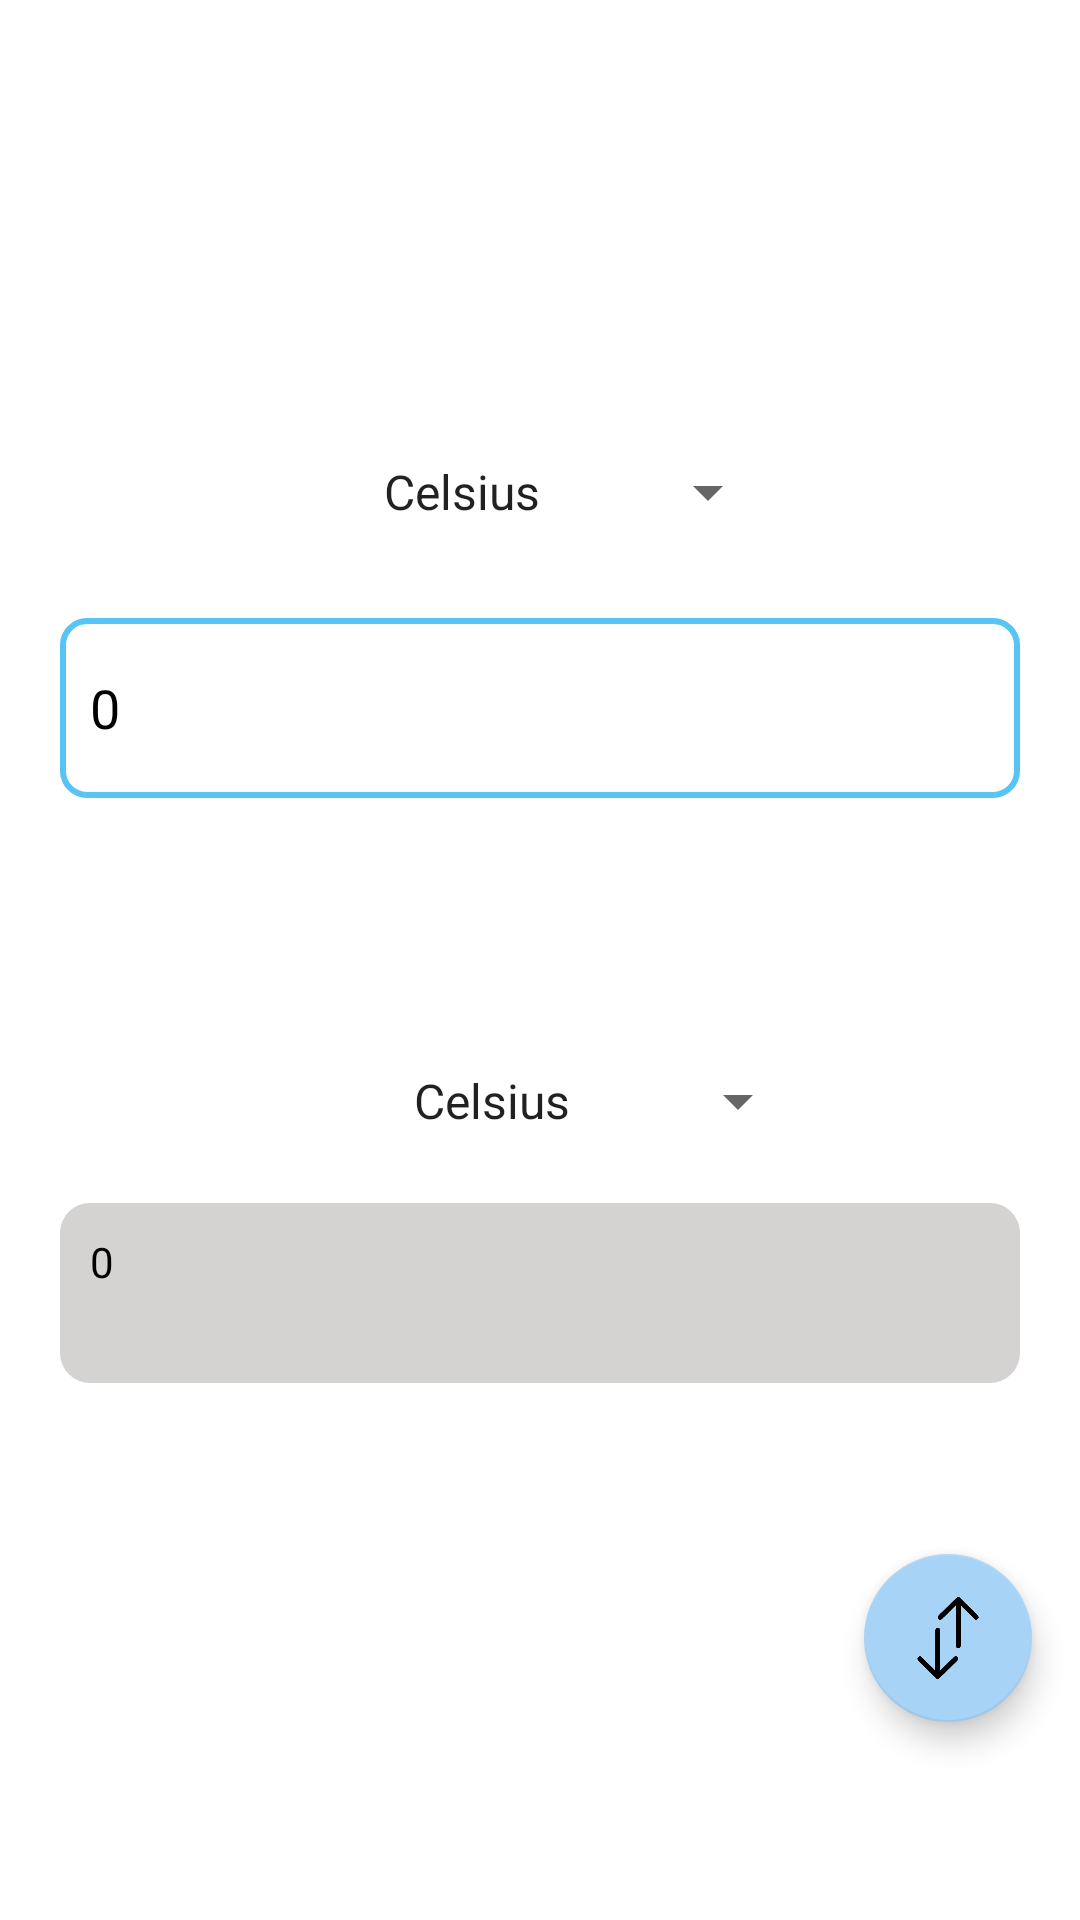

Point at icon controls on the screen. Image size 1080*1920, points as (x=x, y=y).
arr: (x=948, y=1638)
